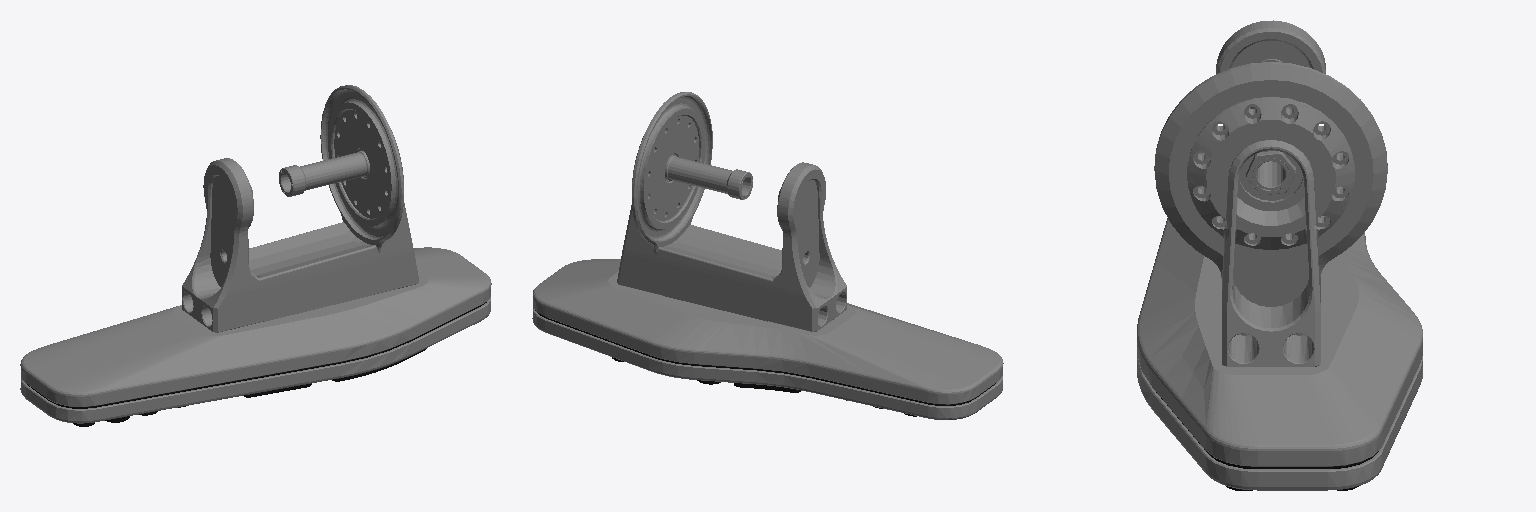
robot.urdf — robot:
<?xml version="1.0" encoding="utf-8"?>
<!-- Mentee Robotics LTD -->
<robot name="robot">
  <link name="right_foot">
    <inertial>
      <origin xyz="0.0916101 0.00104844 -0.0715539" rpy="0.0 0.0 0.0" />
      <mass value="0.121413" />
      <inertia ixx="0.00157793" ixy="-0.000133203" ixz="-0.00039902" iyy="0.00562655" iyz="1.60988e-05" izz="0.00509431" />
    </inertial>
    <visual>
      <origin xyz="0.0 0.0 0.0" rpy="0.0 0.0 0.0" />
      <geometry>
        <mesh filename="../meshes/right_foot/component_0_21-420.STL" />
      </geometry>
      <material name="Aluminum_Cast">
        <color rgba="0.555 0.555 0.555 1.0" />
      </material>
    </visual>
    <visual>
      <origin xyz="0.0 0.0 0.0" rpy="0.0 0.0 0.0" />
      <geometry>
        <mesh filename="../meshes/right_foot/component_1_21-419.STL" />
      </geometry>
      <material name="Aluminum_Cast">
        <color rgba="0.555 0.555 0.555 1.0" />
      </material>
    </visual>
    <visual>
      <origin xyz="0.0 0.0 0.0" rpy="0.0 0.0 0.0" />
      <geometry>
        <mesh filename="../meshes/right_foot/component_3_21-33.STL" />
      </geometry>
      <material name="Aluminum_Cast">
        <color rgba="0.555 0.555 0.555 1.0" />
      </material>
    </visual>
    <visual>
      <origin xyz="0.0 0.0 0.0" rpy="0.0 0.0 0.0" />
      <geometry>
        <mesh filename="../meshes/right_foot/component_4_21-37.STL" />
      </geometry>
      <material name="Aluminum_Cast">
        <color rgba="0.555 0.555 0.555 1.0" />
      </material>
    </visual>
    <visual>
      <origin xyz="0.0 0.0 0.0" rpy="0.0 0.0 0.0" />
      <geometry>
        <mesh filename="../meshes/right_foot/component_5_21-27-102.STL" />
      </geometry>
      <material name="Aluminum_Cast">
        <color rgba="0.555 0.555 0.555 1.0" />
      </material>
    </visual>
    <visual>
      <origin xyz="0.0 0.0 0.0" rpy="0.0 0.0 0.0" />
      <geometry>
        <mesh filename="../meshes/right_foot/component_6_21-27-110.STL" />
      </geometry>
      <material name="Aluminum_Cast">
        <color rgba="0.555 0.555 0.555 1.0" />
      </material>
    </visual>
    <visual>
      <origin xyz="0.0 0.0 0.0" rpy="0.0 0.0 0.0" />
      <geometry>
        <mesh filename="../meshes/right_foot/component_2_21-421.STL" />
      </geometry>
      <material name="Rubber_Textured">
        <color rgba="0.111 0.111 0.111 1.0" />
      </material>
    </visual>
  </link>
  <joint name="right_back_left_sole" type="fixed">
    <origin xyz="-0.0565 0.0317197 -0.1" rpy="0.0 0.0 0.0" />
    <parent link="right_foot" />
    <child link="right_back_left_sole" />
  </joint>
  <link name="right_back_left_sole">
    <inertial>
      <origin xyz="0.14811 -0.0306713 0.0284461" rpy="0.0 0.0 0.0" />
      <mass value="0.25" />
      <inertia ixx="0.0" ixy="0.0" ixz="0.0" iyy="0.0" iyz="0.0" izz="0.0" />
    </inertial>
    <collision>
      <origin xyz="0.075 -0.0135 0.015" rpy="-1.5708 0.0 0.0" />
      <geometry>
        <box size="0.15 0.03 0.027" />
      </geometry>
    </collision>
  </link>
  <joint name="right_back_right_sole" type="fixed">
    <origin xyz="-0.0565 -0.029 -0.1" rpy="0.0 0.0 0.0" />
    <parent link="right_foot" />
    <child link="right_back_right_sole" />
  </joint>
  <link name="right_back_right_sole">
    <inertial>
      <origin xyz="0.14811 0.0300484 0.0284461" rpy="0.0 0.0 0.0" />
      <mass value="0.25" />
      <inertia ixx="0.0" ixy="0.0" ixz="0.0" iyy="0.0" iyz="0.0" izz="0.0" />
    </inertial>
    <collision>
      <origin xyz="0.075 0.0135 0.015" rpy="-1.5708 0.0 0.0" />
      <geometry>
        <box size="0.15 0.03 0.027" />
      </geometry>
    </collision>
  </link>
  <joint name="right_front_left_sole" type="fixed">
    <origin xyz="0.2135 0.037 -0.1" rpy="0.0 0.0 0.0" />
    <parent link="right_foot" />
    <child link="right_front_left_sole" />
  </joint>
  <link name="right_front_left_sole">
    <inertial>
      <origin xyz="-0.12189 -0.0359516 0.0284461" rpy="0.0 0.0 0.0" />
      <mass value="0.25" />
      <inertia ixx="0.0" ixy="0.0" ixz="0.0" iyy="0.0" iyz="0.0" izz="0.0" />
    </inertial>
    <collision>
      <origin xyz="-0.0565649 -0.00276868 0.015" rpy="-1.5708 0.0 -0.191788" />
      <geometry>
        <box size="0.11 0.03 0.027" />
      </geometry>
    </collision>
    <collision>
      <origin xyz="-0.0565 -0.013 0.015" rpy="-1.5708 0.0 0.0" />
      <geometry>
        <box size="0.113 0.03 0.026" />
      </geometry>
    </collision>
  </link>
  <joint name="right_front_right_sole" type="fixed">
    <origin xyz="0.2135 -0.019 -0.1" rpy="0.0 0.0 0.0" />
    <parent link="right_foot" />
    <child link="right_front_right_sole" />
  </joint>
  <link name="right_front_right_sole">
    <inertial>
      <origin xyz="-0.12189 0.0200484 0.0284461" rpy="0.0 0.0 0.0" />
      <mass value="0.25" />
      <inertia ixx="0.0" ixy="0.0" ixz="0.0" iyy="0.0" iyz="0.0" izz="0.0" />
    </inertial>
    <collision>
      <origin xyz="-0.0565 0.013 0.015" rpy="-1.5708 0.0 0.0" />
      <geometry>
        <box size="0.113 0.03 0.026" />
      </geometry>
    </collision>
    <collision>
      <origin xyz="-0.0563444 -0.00570563 0.015" rpy="-1.5708 0.0 0.341615" />
      <geometry>
        <box size="0.11 0.03 0.027" />
      </geometry>
    </collision>
  </link>
</robot>

--- What the picture shows (computed from the rendered views, not written in the file) ---
The picture shows the robot from 3 angles, left to right: view 1: azimuth 30°, elevation 25°; view 2: azimuth 150°, elevation 25°; view 3: azimuth 270°, elevation 25°; orthographic projection.
Model robot with 5 links and 4 joints (4 fixed), rooted at right_foot, posed every joint at zero.
Visible links, largest first — view 1: right_foot; view 2: right_foot; view 3: right_foot.
Link boxes in pixels (x1,y1,x2,y2): right_foot: (20, 85, 491, 426); right_foot: (532, 92, 1003, 419); right_foot: (1137, 20, 1422, 490).
Size in the robot's own frame: 0.27 by 0.1041 by 0.1424 metres.
7 mesh visuals loaded from 7 distinct referenced files (7 binary STL).